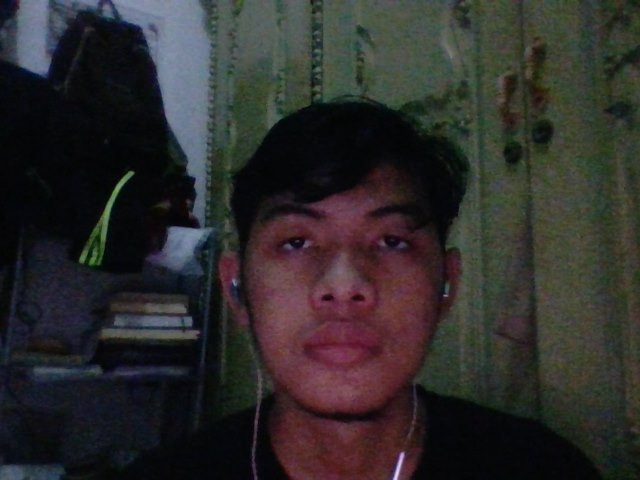NoMask: (232, 289, 476, 408)
